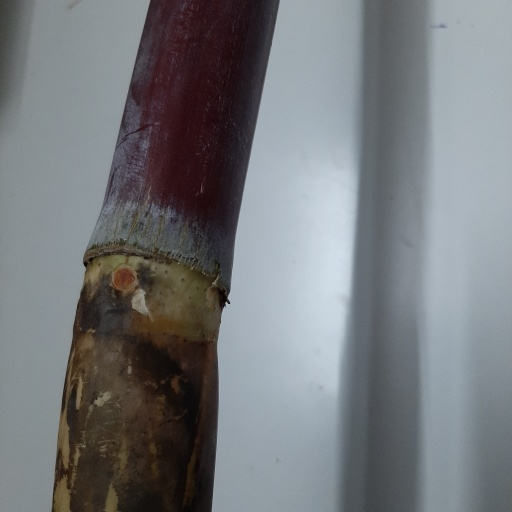Damage_Bud: (111, 265, 137, 294)
